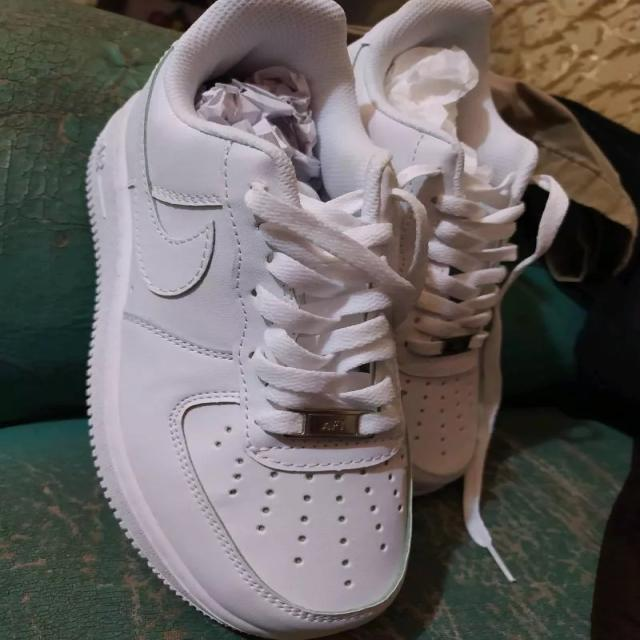nike fake air force: (80, 0, 432, 640), (300, 1, 584, 497)
